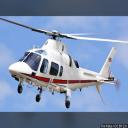helicopter: (8, 22, 123, 110)
